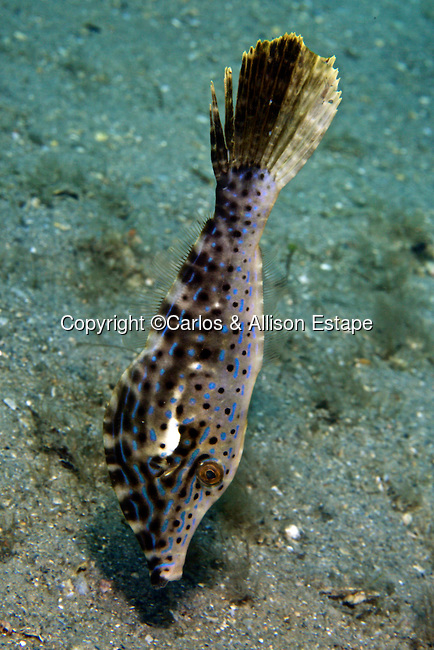Aluterus_scriptus: (96, 33, 353, 594)
